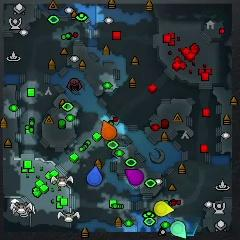p1: (87, 166, 102, 187)
p2: (171, 221, 186, 238)
p3: (124, 168, 144, 185)
p4: (154, 201, 174, 216)
p5: (101, 120, 116, 140)
